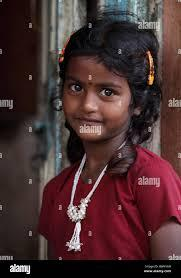Human: (23, 4, 181, 272)
